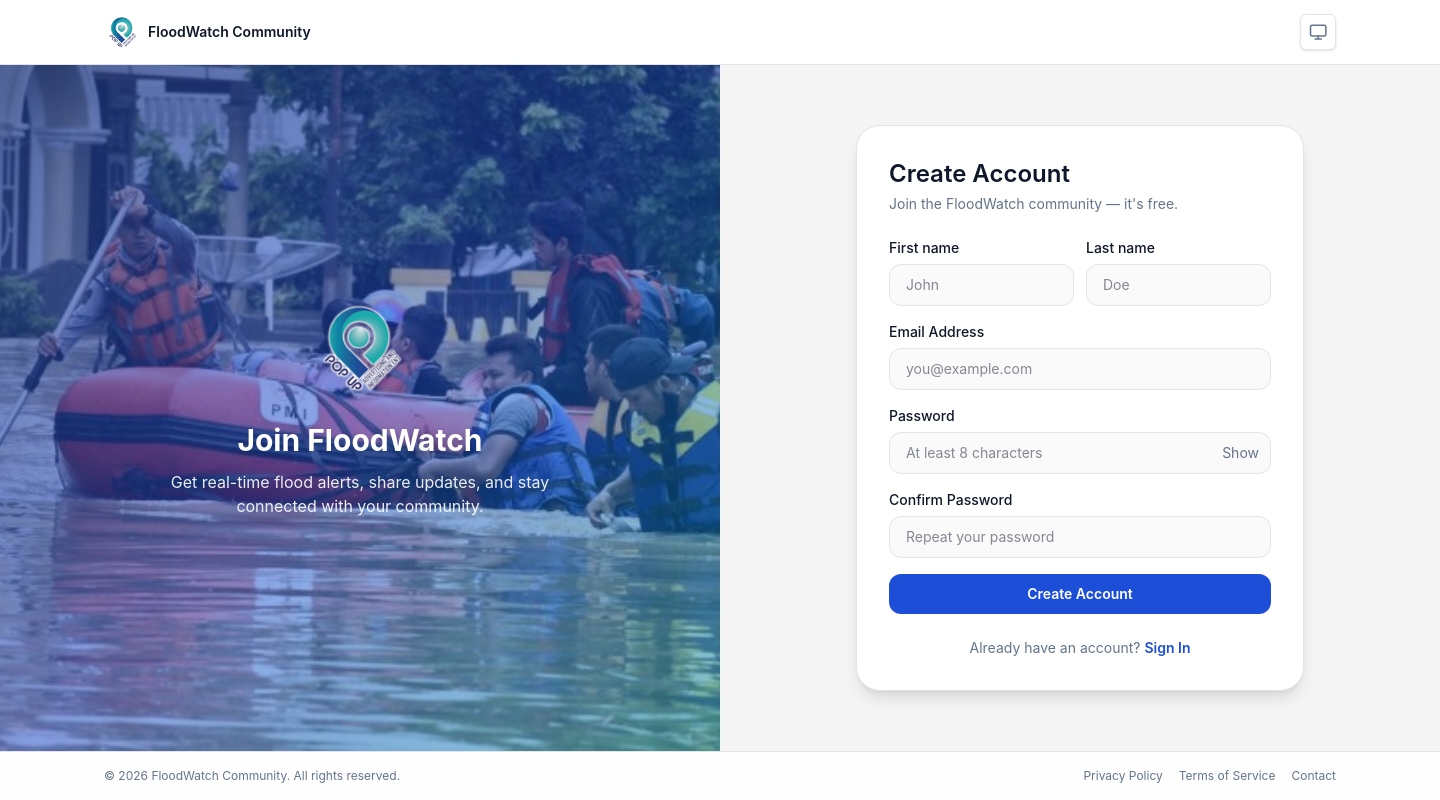
Scenario: Community · register › toggles password visibility
In the password field labelled "Password": (1080, 453) [889,432,1271,474], type "Password@123"
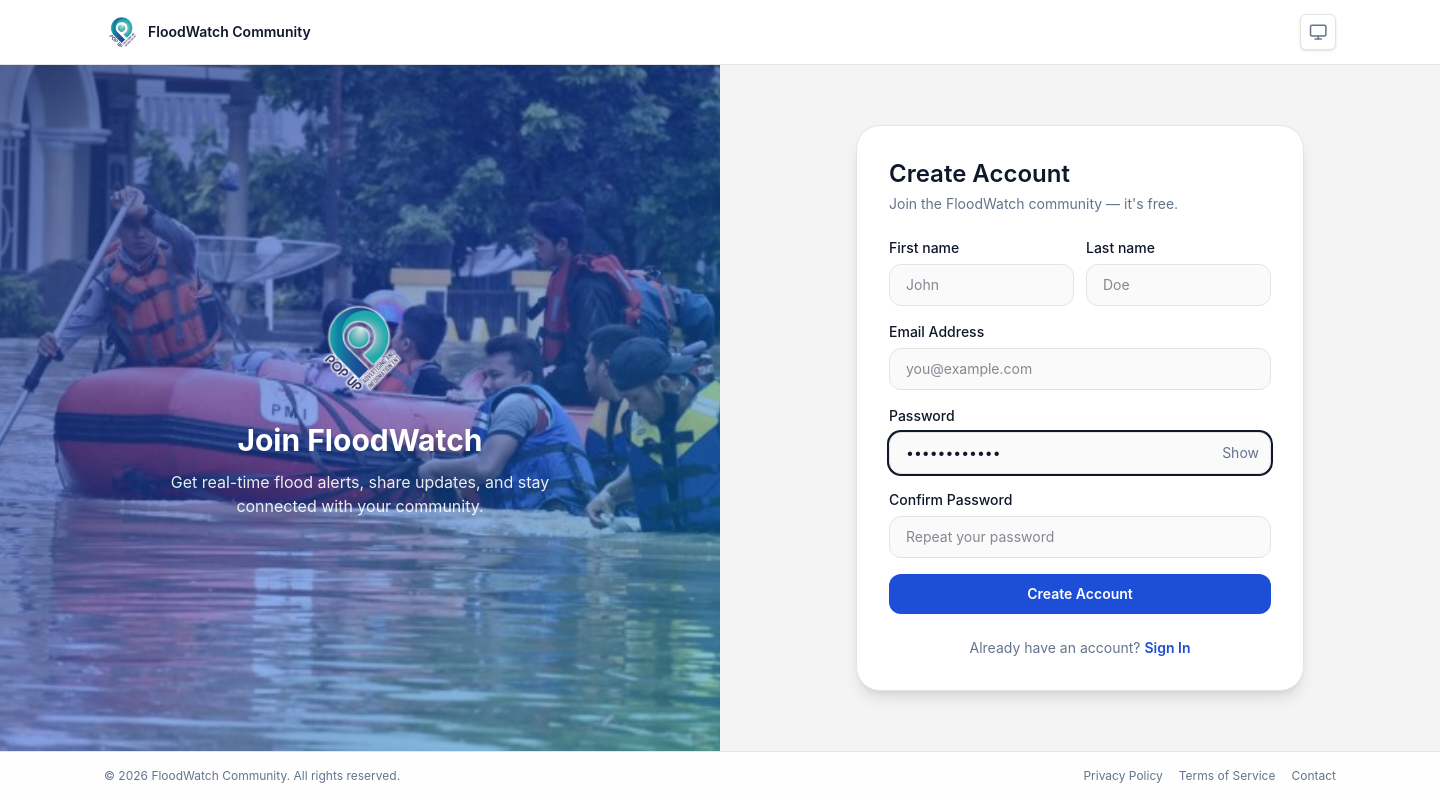
Click the button with test id "register-pw-toggle": (1241, 453) [1222,443,1259,463]
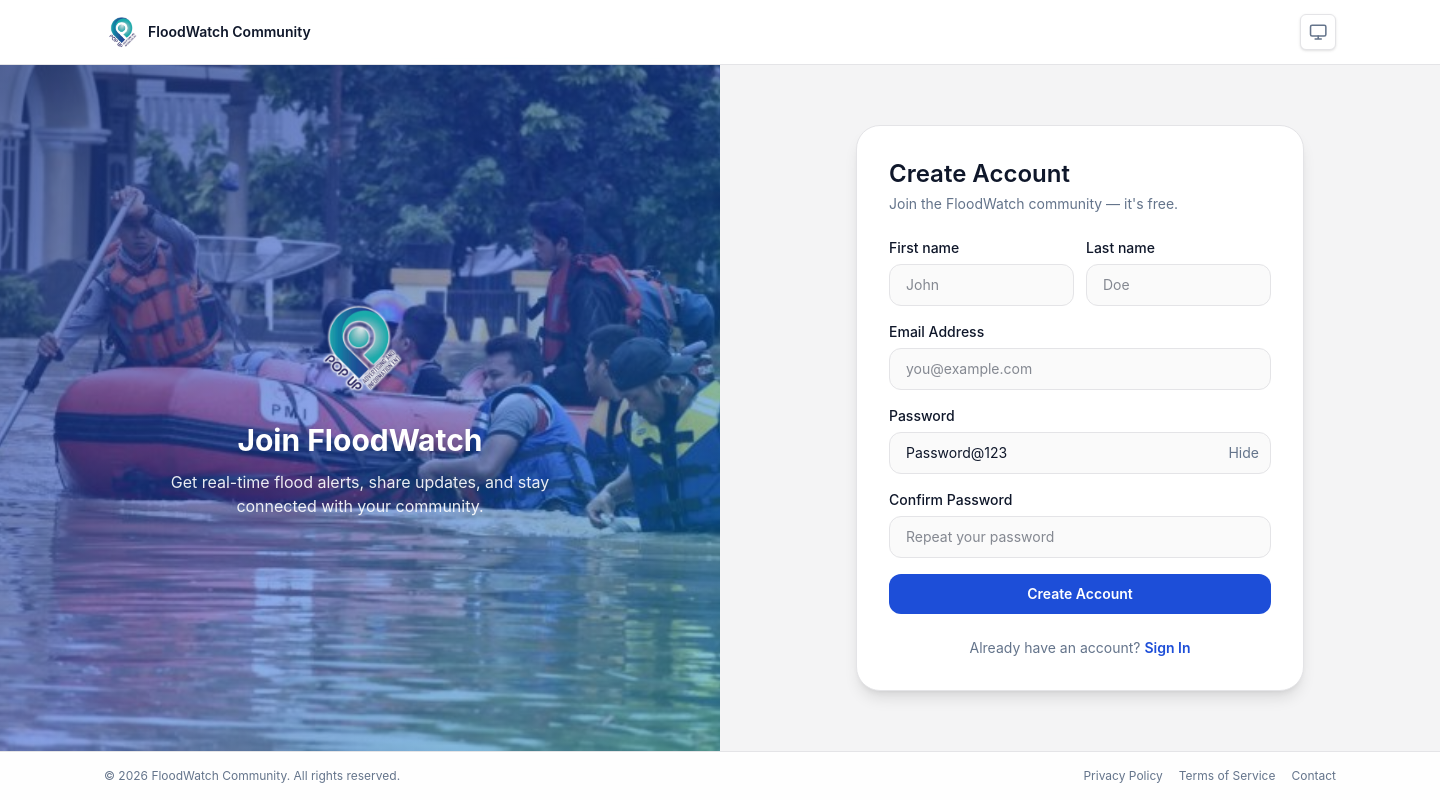
Expected: the field labelled "Password" shows its text, [889,432,1271,474]
